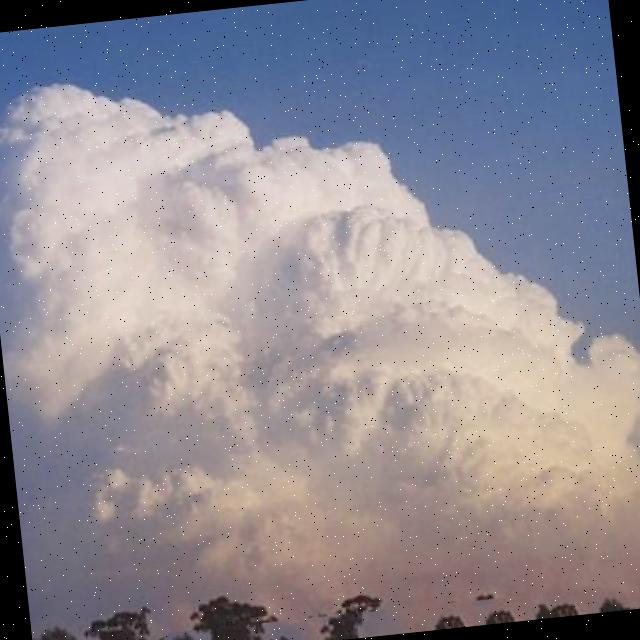Cb: (1, 16, 640, 615)
